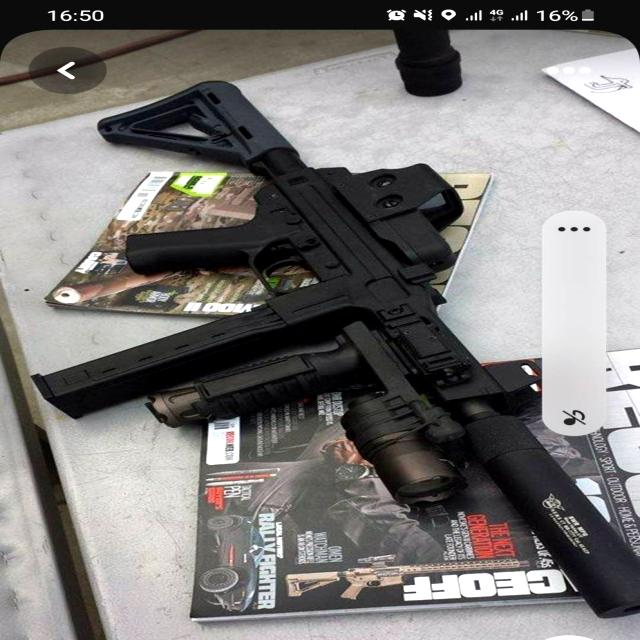m16: (36, 74, 534, 431)
